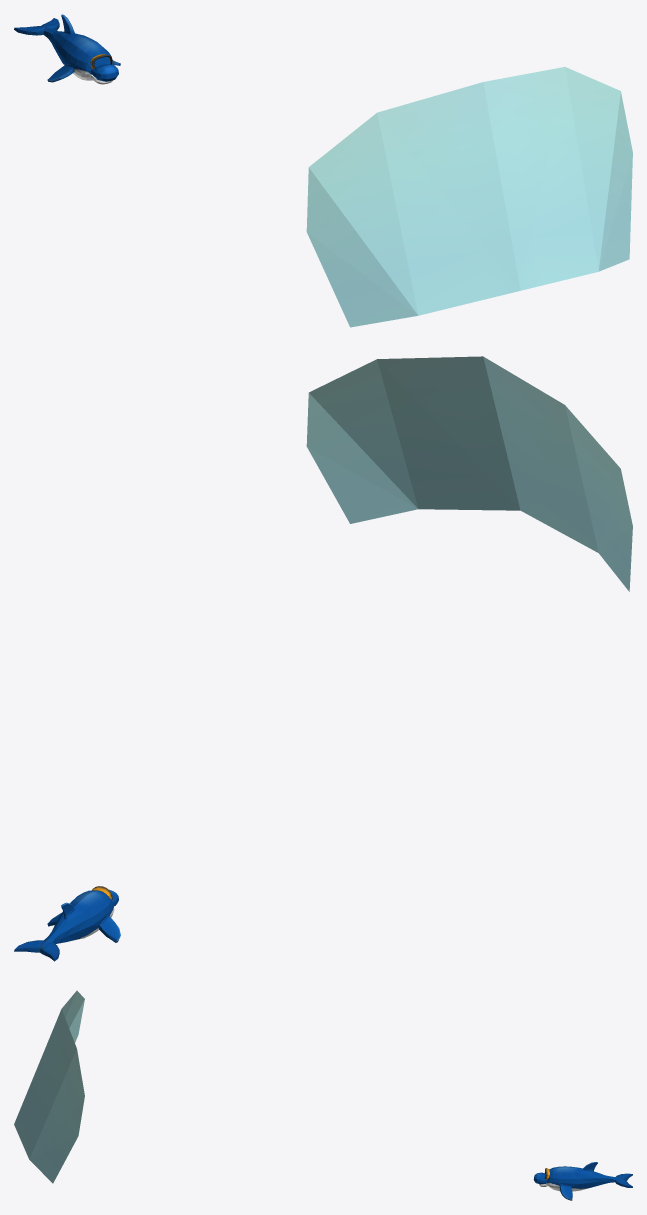
Rendered from dolfin9.obj.
3 renders of one model, top to bottom at view 1: azimuth 30°, elevation 25°; view 2: azimuth 150°, elevation 25°; view 3: azimuth 270°, elevation 25°, orthographic. The views are drawn at different scales.
Parts seen in each view (by area): view 1: polygon1.003, polygon0.003; view 2: polygon1.003, polygon0.003; view 3: polygon1.003, polygon0.003.
Part boxes in pixels (left/top/right/bottom): polygon1.003: left=306, top=67, right=632, bottom=327; polygon0.003: left=14, top=14, right=120, bottom=84; polygon1.003: left=306, top=356, right=632, bottom=591; polygon0.003: left=14, top=886, right=120, bottom=961; polygon1.003: left=14, top=990, right=84, bottom=1183; polygon0.003: left=533, top=1162, right=632, bottom=1200.
Bounding box in the file's own units: 1571 × 1311 × 4055.
